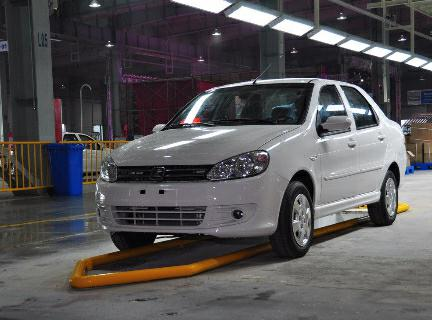众泰-Z200: (93, 74, 410, 258)
